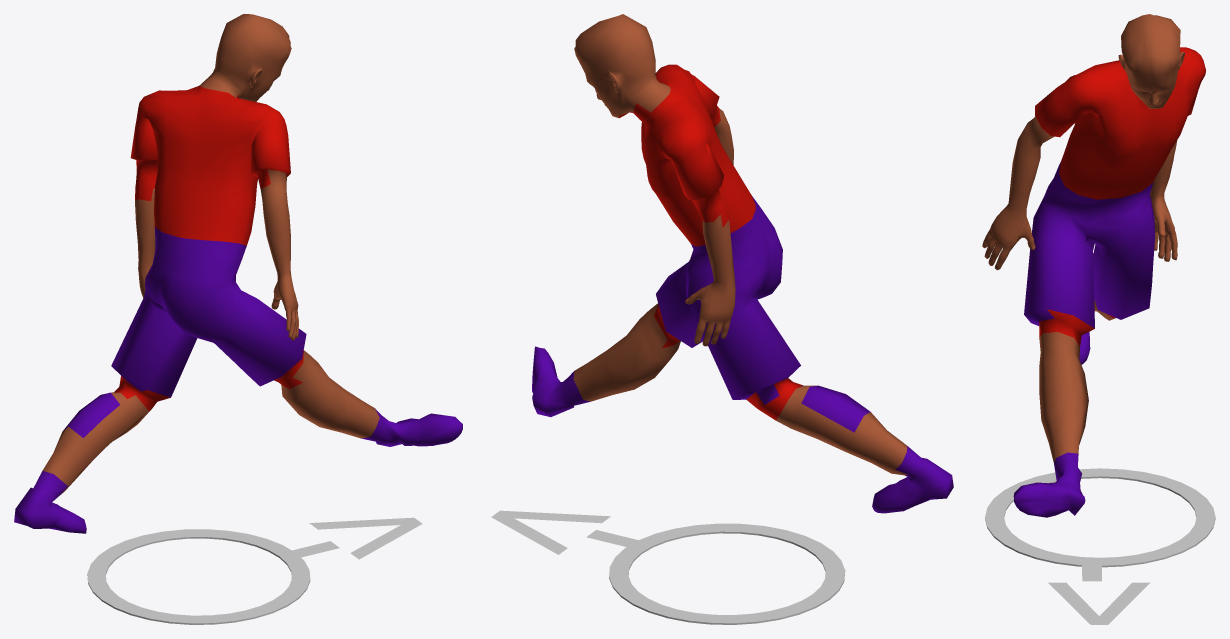
File: player_000032.obj
3 renders of one model, left to right at view 1: azimuth 30°, elevation 25°; view 2: azimuth 150°, elevation 25°; view 3: azimuth 270°, elevation 25°, orthographic. The views are drawn at different scales.
Parts seen in each view (by area): view 1: soccerplayer.002_mesh.003, Circle, Text.001_Mesh.001; view 2: soccerplayer.002_mesh.003, Circle, Text.001_Mesh.001; view 3: soccerplayer.002_mesh.003, Circle, Text.001_Mesh.001.
Boxes of the visible parts, left/top/right/bottom form: soccerplayer.002_mesh.003: left=14, top=14, right=462, bottom=533; Circle: left=87, top=529, right=310, bottom=624; Text.001_Mesh.001: left=287, top=517, right=422, bottom=559; soccerplayer.002_mesh.003: left=532, top=14, right=953, bottom=513; Circle: left=609, top=523, right=845, bottom=624; Text.001_Mesh.001: left=491, top=510, right=641, bottom=554; soccerplayer.002_mesh.003: left=982, top=14, right=1205, bottom=517; Circle: left=985, top=468, right=1215, bottom=567; Text.001_Mesh.001: left=1048, top=559, right=1150, bottom=624.
Bounding box in the file's own units: 2.36 × 2.83 × 1.1.
